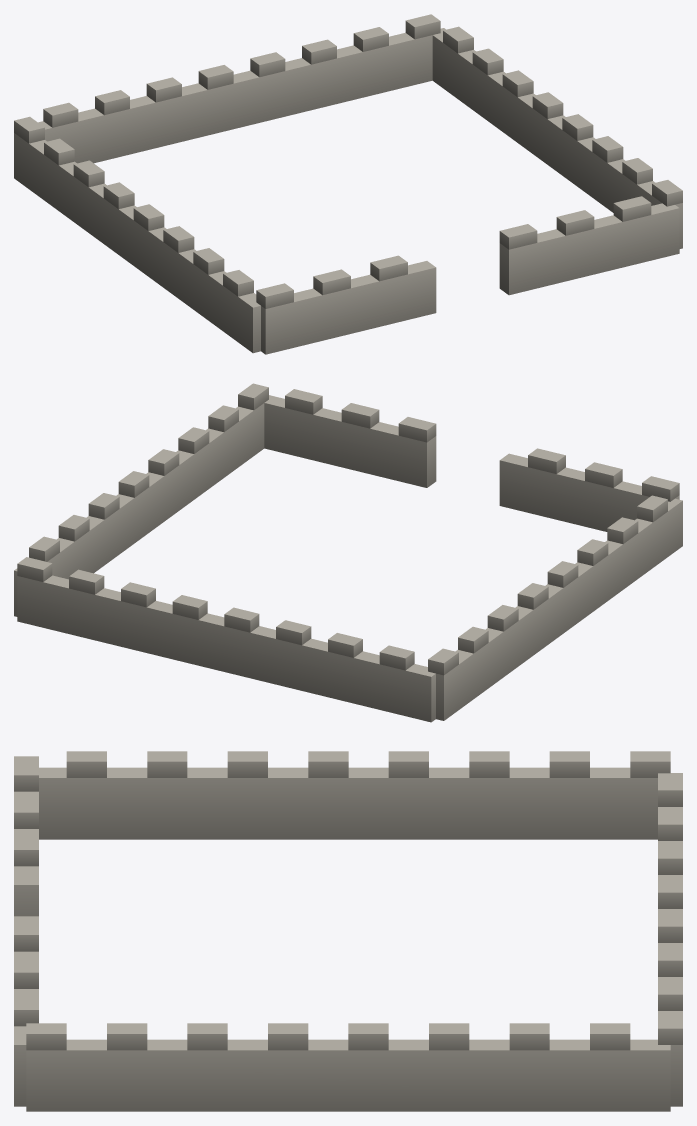
The model's file is wall_NE_1.glb.
3 renders of one model, top to bottom at view 1: azimuth 30°, elevation 25°; view 2: azimuth 150°, elevation 25°; view 3: azimuth 270°, elevation 25°, orthographic. The views are drawn at different scales.
Visible parts, largest first — view 1: Body; view 2: Body; view 3: Body.
Part boxes in pixels (bbox=[...]): Body: bbox=[14, 14, 682, 354]; Body: bbox=[14, 383, 682, 722]; Body: bbox=[14, 751, 682, 1111].
Bounding box in the file's own units: 5.92 × 0.76 × 5.92.
Materials: 1 (1 with a texture image).
